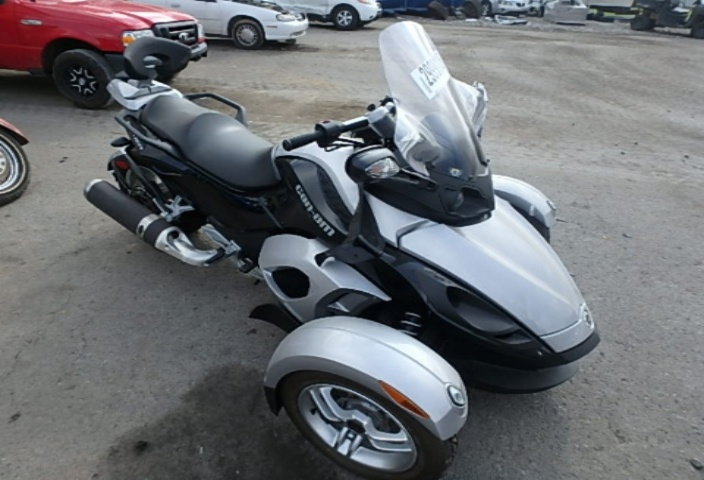car: (1, 9, 217, 105), (106, 1, 319, 52), (276, 1, 387, 36)
motorcycle: (86, 36, 629, 479)
